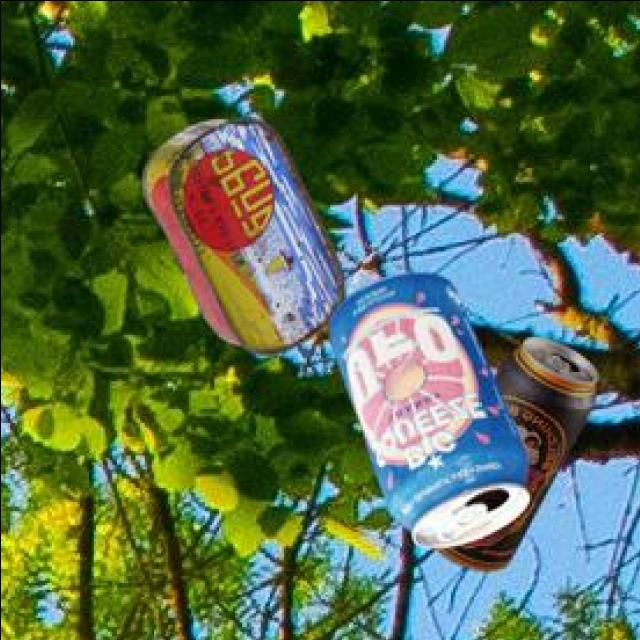logam: (326, 275, 525, 551), (138, 122, 340, 358), (432, 340, 592, 574)
